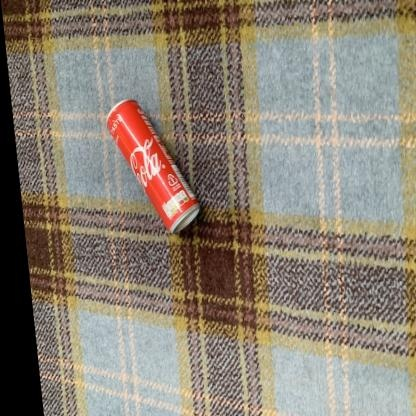trash: (107, 99, 199, 232)
